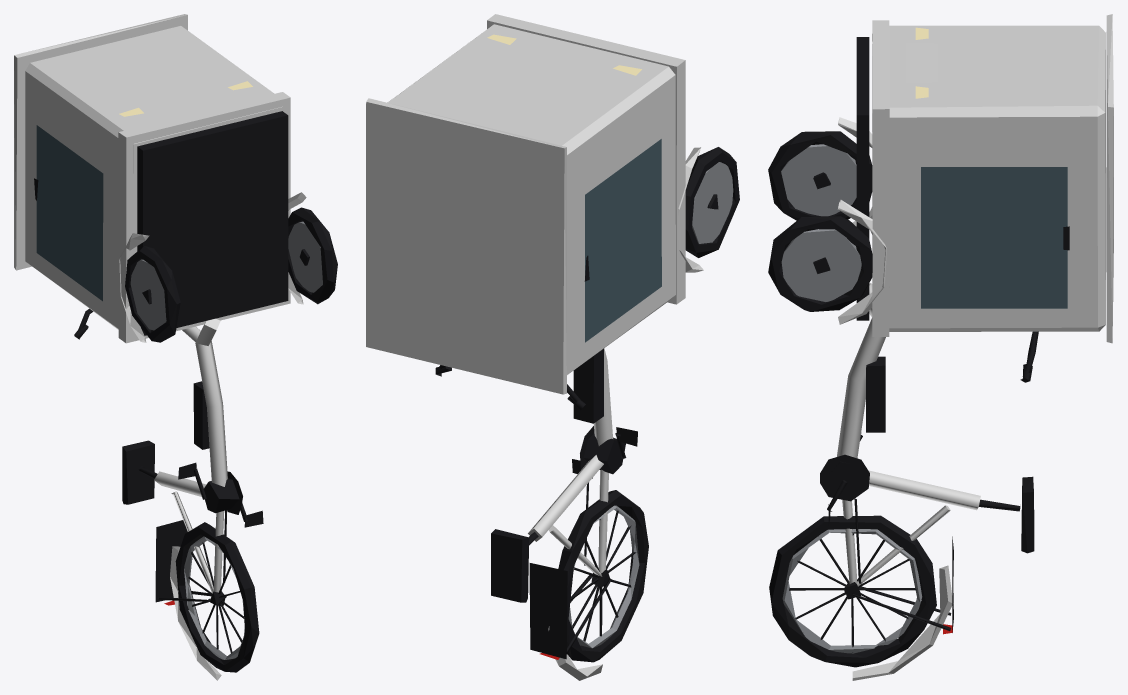
The model's file is SolarpunkCargoBikeBox01_LOD1.fbx.
The picture shows the model from 3 angles, left to right: view 1: azimuth 30°, elevation 25°; view 2: azimuth 150°, elevation 25°; view 3: azimuth 270°, elevation 25°; orthographic projection. The views are drawn at different scales.
Visible parts, largest first — view 1: SolarpunkCargoBikeBox01_LOD1; view 2: SolarpunkCargoBikeBox01_LOD1; view 3: SolarpunkCargoBikeBox01_LOD1.
Boxes of the visible parts, left/top/right/bottom form: SolarpunkCargoBikeBox01_LOD1: left=14, top=14, right=337, bottom=680; SolarpunkCargoBikeBox01_LOD1: left=366, top=14, right=739, bottom=680; SolarpunkCargoBikeBox01_LOD1: left=768, top=14, right=1113, bottom=680.
Bounding box in the file's own units: 85.3 × 266 × 134.
1 material, 1 textured.
